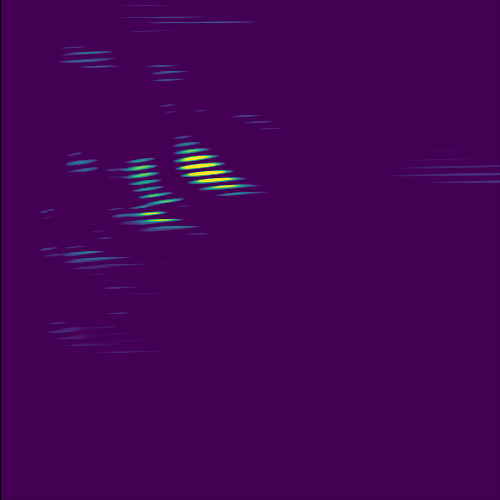semblance: (173, 143, 248, 200)
